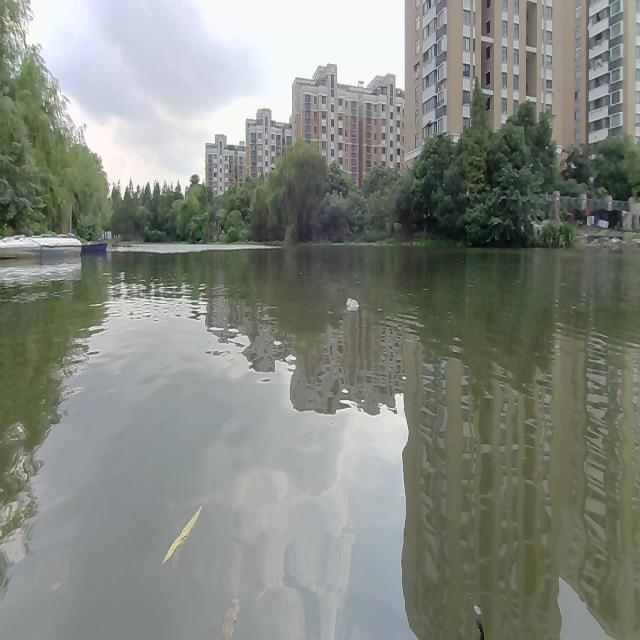bottle: (346, 297, 362, 313)
